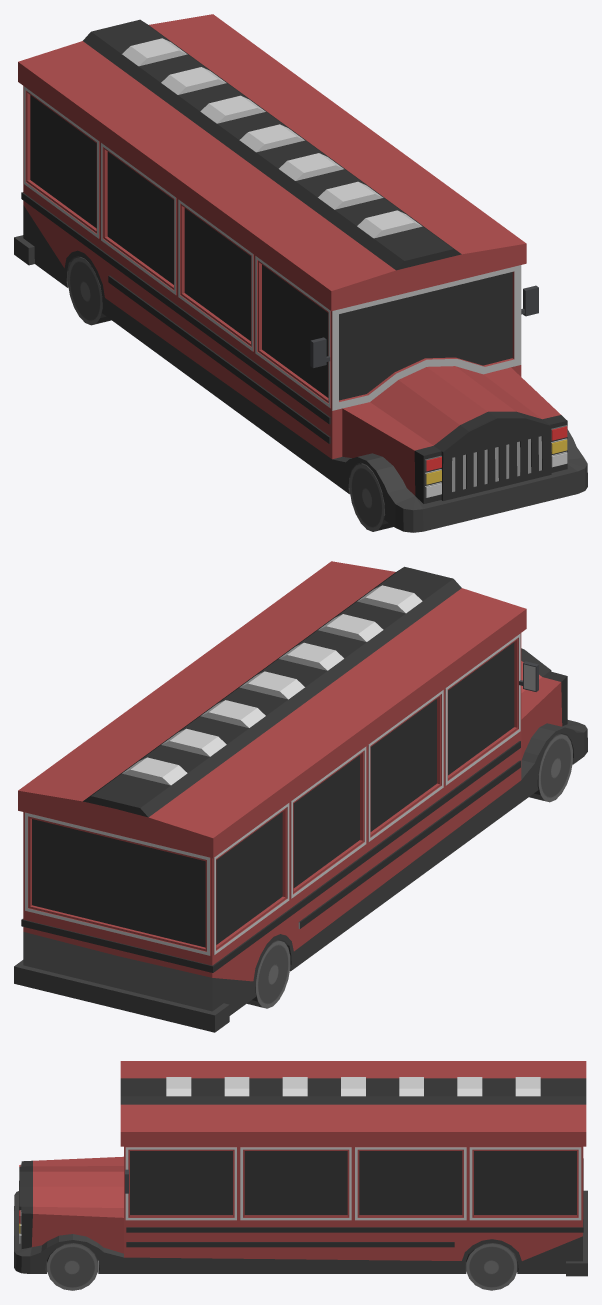
Rendered from bus01_color01.fbx.
3 renders of one model, top to bottom at view 1: azimuth 30°, elevation 25°; view 2: azimuth 150°, elevation 25°; view 3: azimuth 270°, elevation 25°, orthographic. The views are drawn at different scales.
Parts seen in each view (by area): view 1: Cube.303, Cylinder.007, Cylinder.008; view 2: Cube.303, Cylinder.007, Cylinder.008; view 3: Cube.303, Cylinder.006, Cylinder.003.
Boxes of the visible parts, x1,y1,x2,y2 form: Cube.303: (14, 14, 587, 532); Cylinder.007: (349, 463, 393, 531); Cylinder.008: (68, 257, 111, 325); Cube.303: (14, 561, 587, 1032); Cylinder.007: (529, 733, 572, 802); Cylinder.008: (247, 940, 290, 1008); Cube.303: (14, 1061, 587, 1276); Cylinder.006: (466, 1243, 517, 1290); Cylinder.003: (47, 1243, 97, 1290).
Size of the model in its own units: 406 by 402 by 1202.
